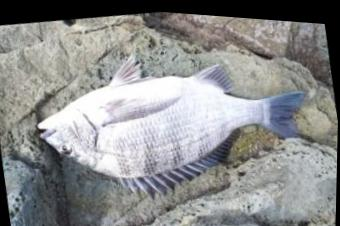fish: (37, 50, 306, 192)
